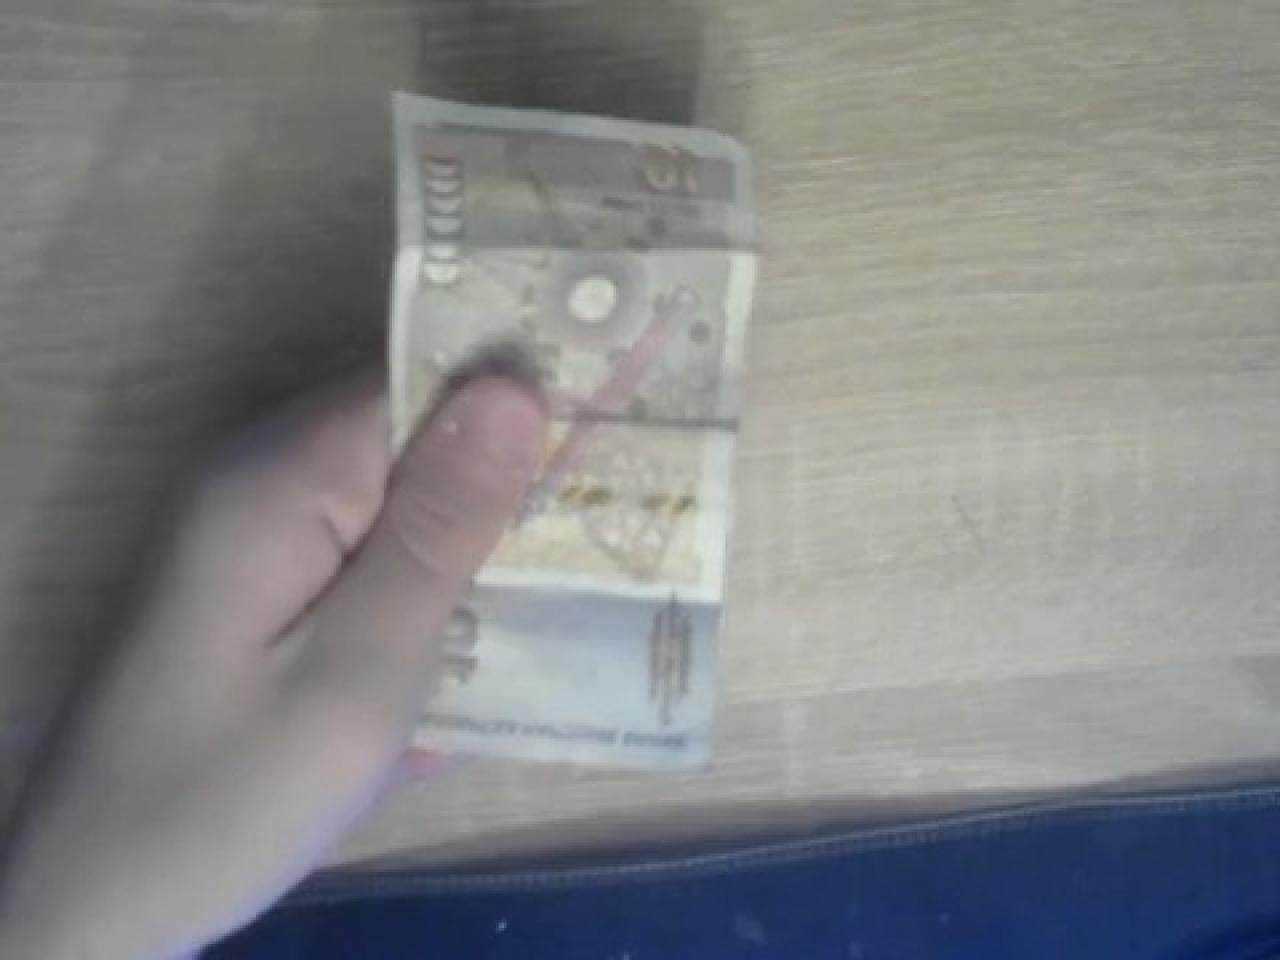10leva: (387, 88, 765, 770)
